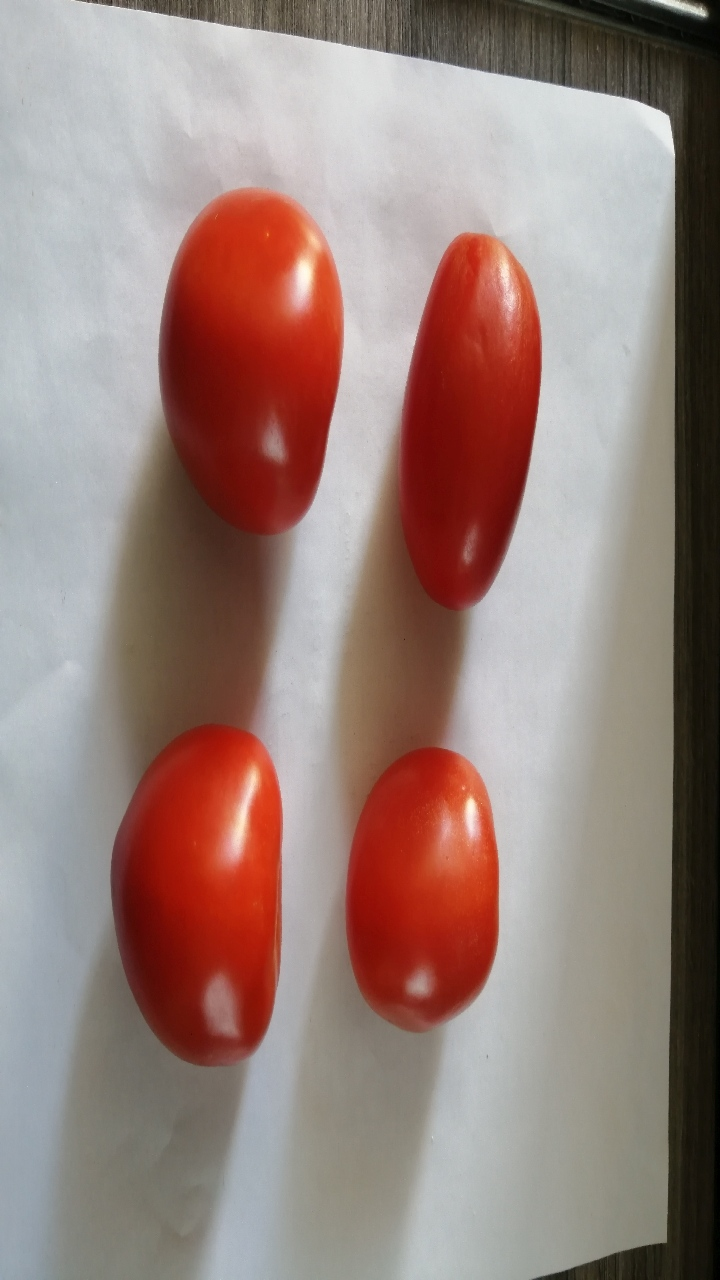tomateRojo: (126, 157, 351, 537), (92, 699, 300, 1092), (377, 205, 560, 634), (332, 723, 511, 1048)
